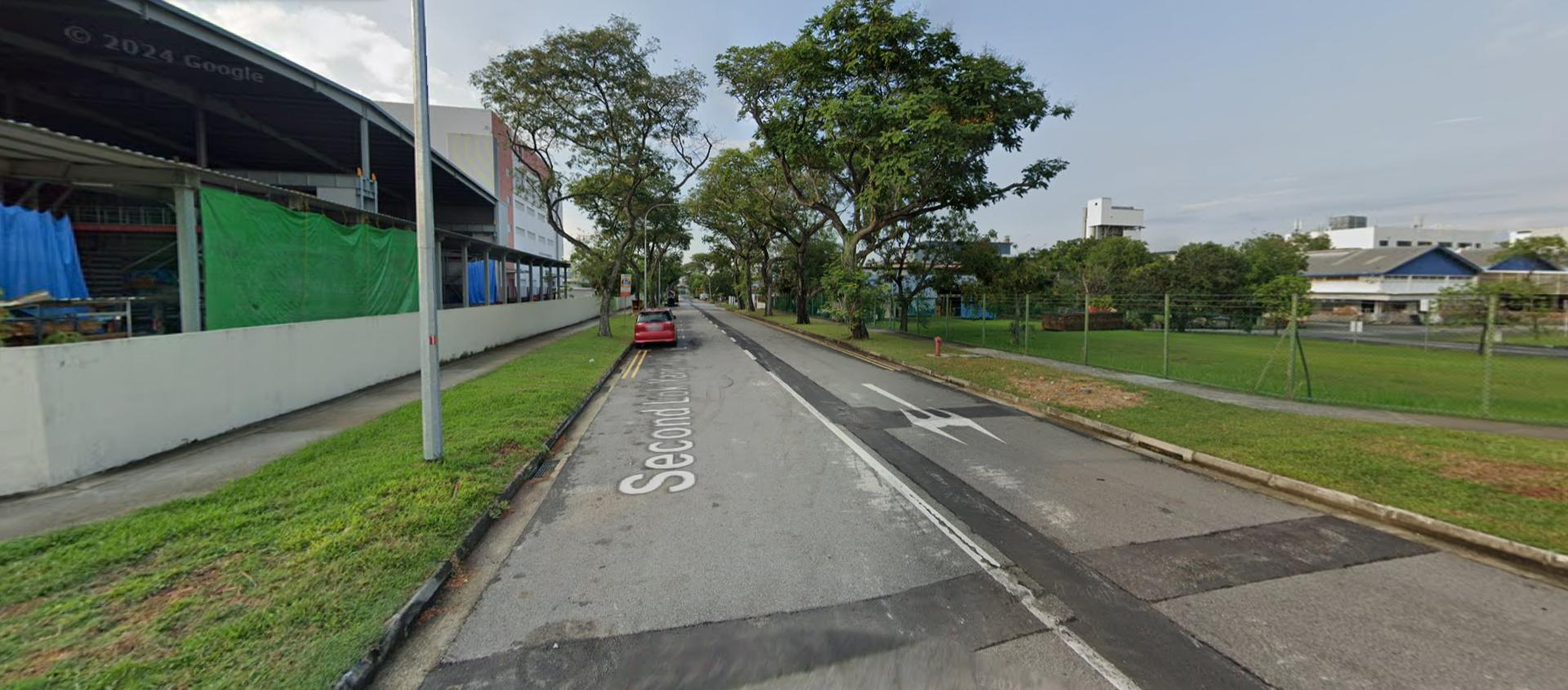normal: (535, 459, 561, 477)
